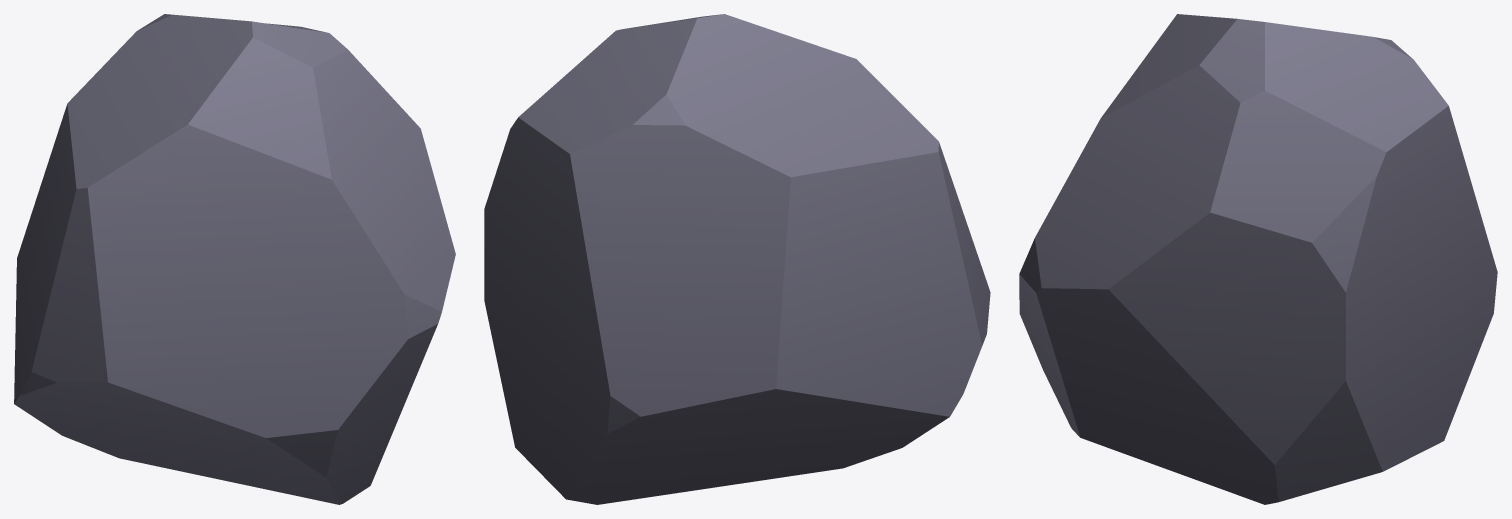
Rendered from Rock_01.fbx.
3 renders of one model, left to right at view 1: azimuth 30°, elevation 25°; view 2: azimuth 150°, elevation 25°; view 3: azimuth 270°, elevation 25°, orthographic. The views are drawn at different scales.
Visible parts, largest first — view 1: Rock_01_LOD0; view 2: Rock_01_LOD0; view 3: Rock_01_LOD0.
Part boxes in pixels (box(x1,y1,x2,y2)): Rock_01_LOD0: box(14, 14, 455, 504); Rock_01_LOD0: box(484, 14, 990, 504); Rock_01_LOD0: box(1019, 14, 1497, 504).
Size of what is drawn, in the model's own units: 0.438 by 0.4385 by 0.4444.
